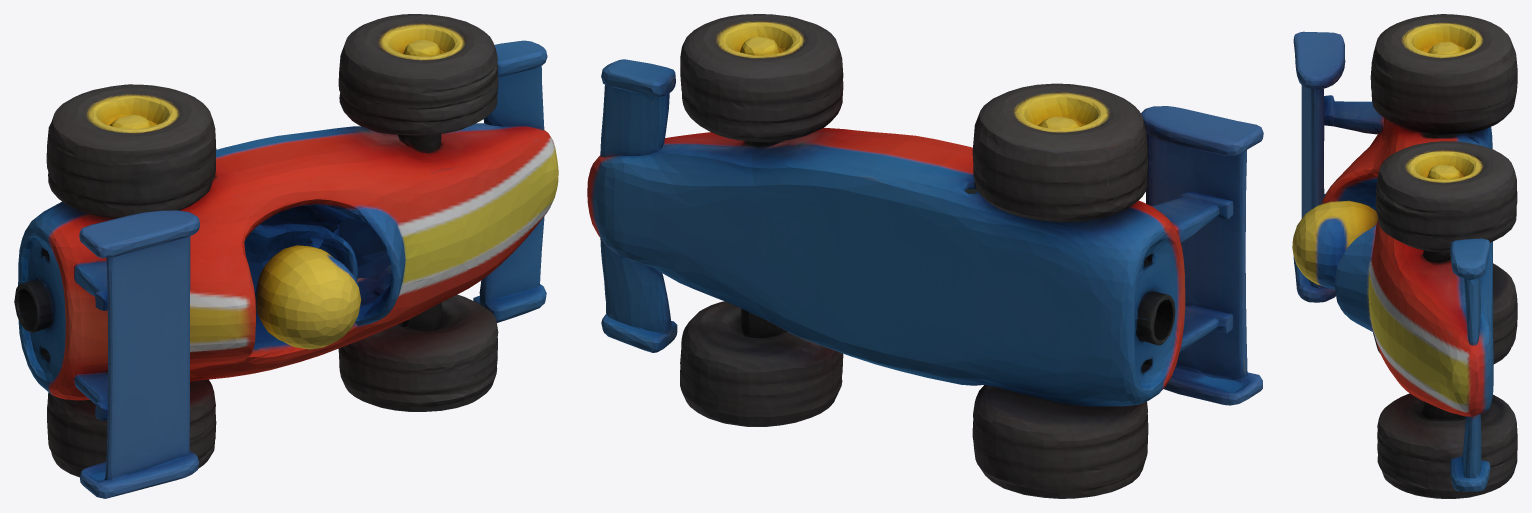
The model's file is cartoy.dae.
3 views of the same model, side by side, from view 1: azimuth 30°, elevation 25°; view 2: azimuth 150°, elevation 25°; view 3: azimuth 270°, elevation 25° (orthographic). The views are drawn at different scales.
Parts seen in each view (by area): view 1: Node_0x7d8f4ca69260; view 2: Node_0x7d8f4ca69260; view 3: Node_0x7d8f4ca69260.
Boxes of the visible parts, x1,y1,x2,y2 form: Node_0x7d8f4ca69260: (14,14,558,498); Node_0x7d8f4ca69260: (587,14,1263,498); Node_0x7d8f4ca69260: (1292,14,1517,498).
Bounding box in the file's own units: 0.2542 × 0.1532 × 0.1.
1 material, 1 textured.
